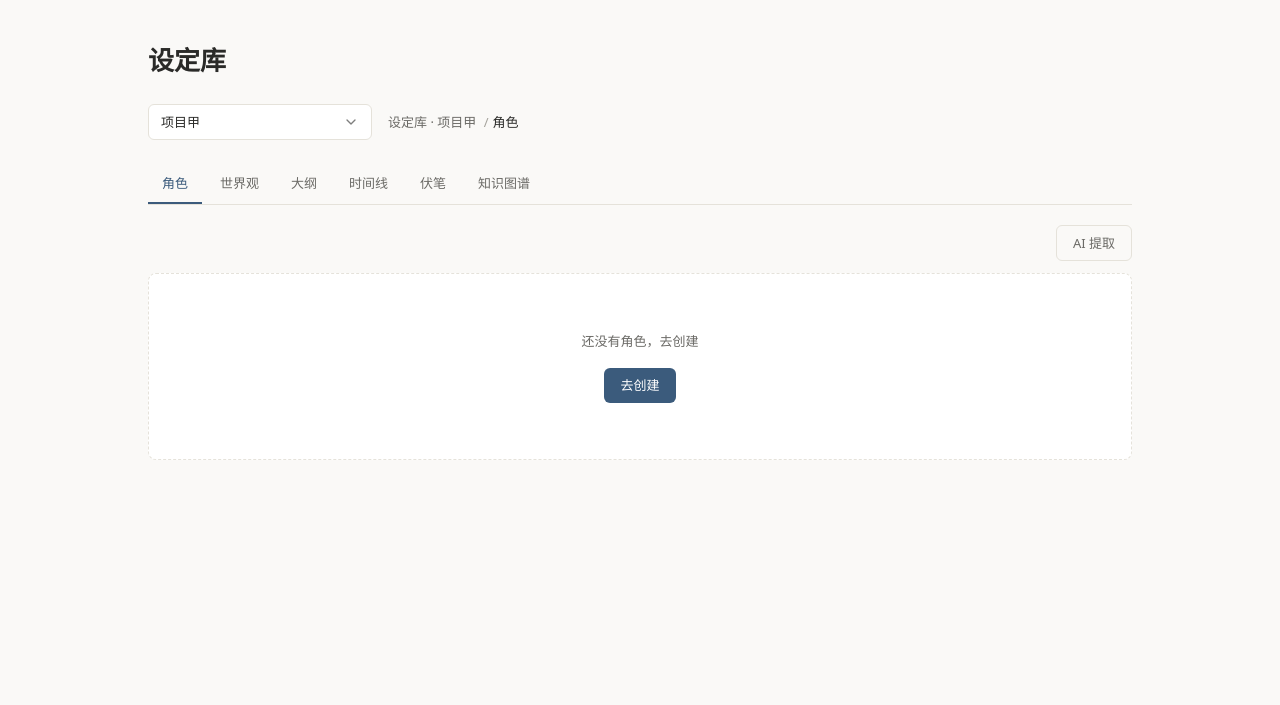
Scenario: #1465-A 类别多选：默认全选（N18①） › N18① 六类复选框默认全部勾选（视觉上勾满）
Click the tab "知识图谱" at {"x": 504, "y": 184}, box left=464, top=164, right=544, bottom=204
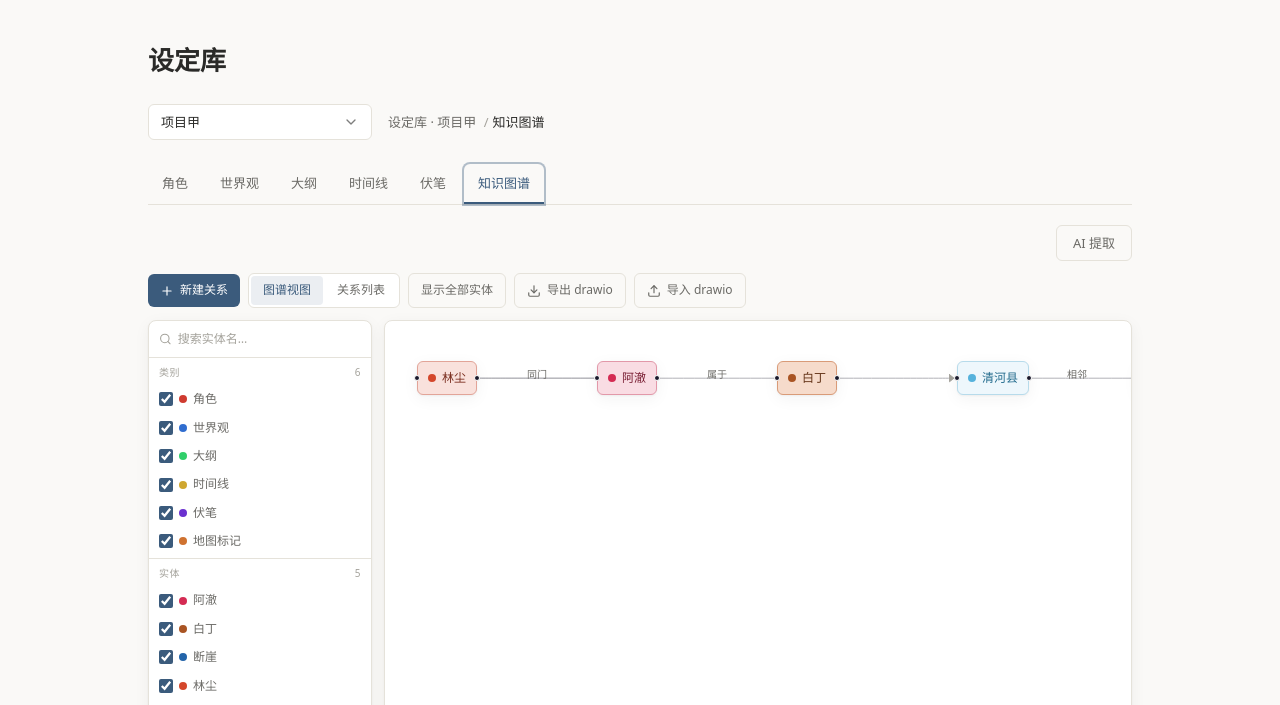
Now the element with test id "library-kg-node-character-c1" is shown, box left=417, top=361, right=477, bottom=395
